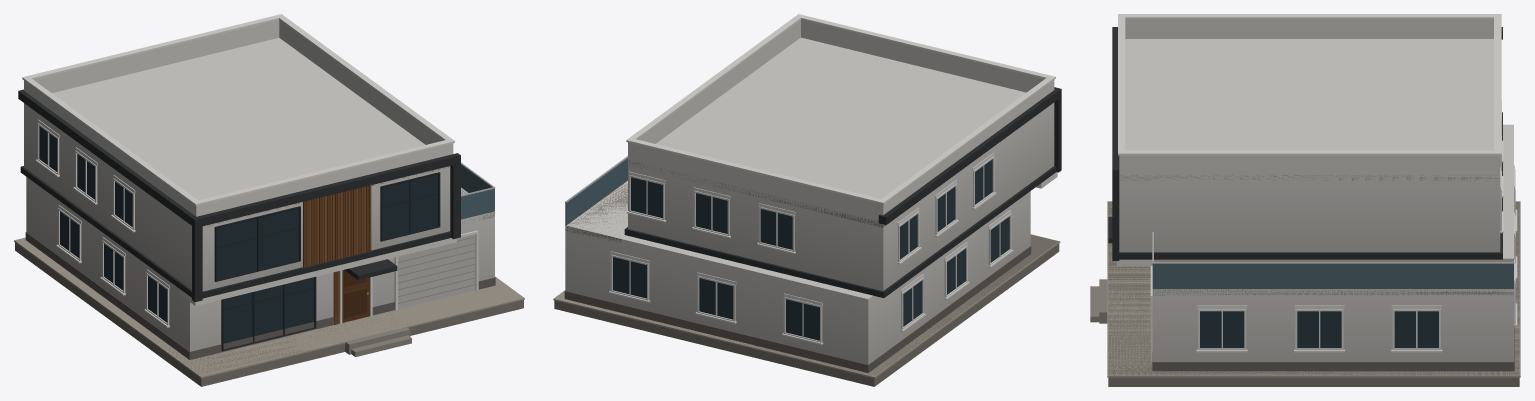
File: ns_dup1.glb
3 views of the same model, side by side, from view 1: azimuth 30°, elevation 25°; view 2: azimuth 150°, elevation 25°; view 3: azimuth 270°, elevation 25° (orthographic). The views are drawn at different scales.
Visible parts, largest first — view 1: ns_dup1; view 2: ns_dup1; view 3: ns_dup1.
Part boxes in pixels (x1,y1,x2,y2): ns_dup1: (14,14,524,386); ns_dup1: (553,14,1061,386); ns_dup1: (1090,14,1520,386).
Size of the model in its own units: 15.03 by 7.88 by 15.47.
